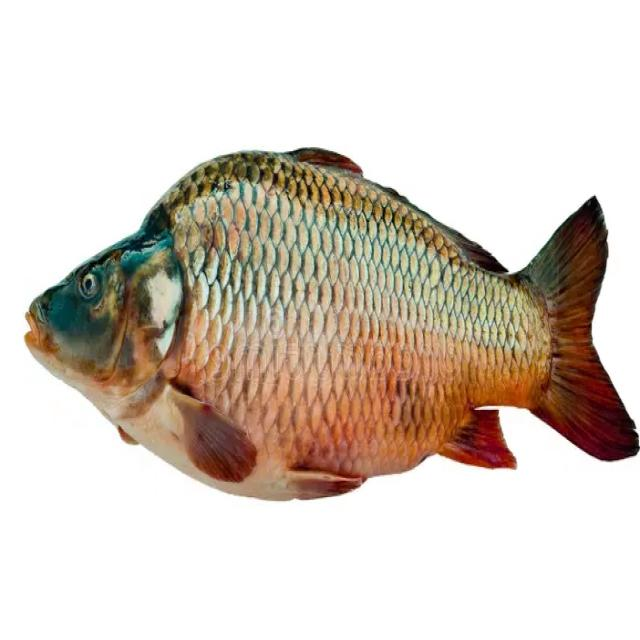Common carp: (25, 148, 638, 501)
